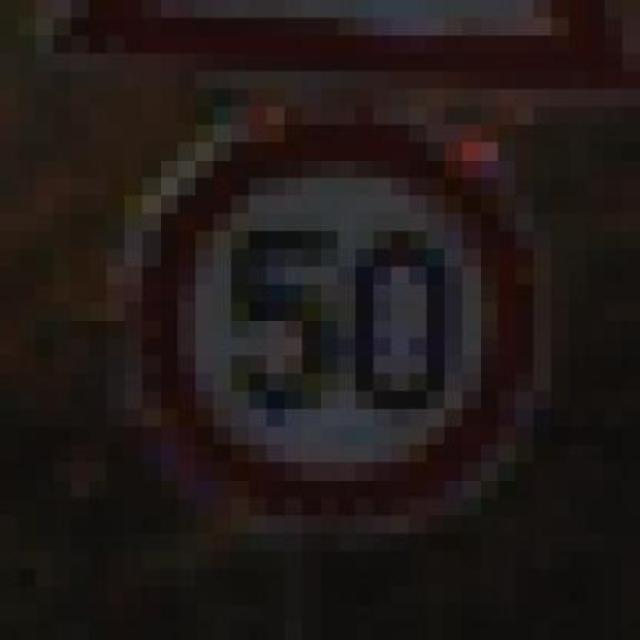forb_speed_over_50: (133, 113, 532, 519)
